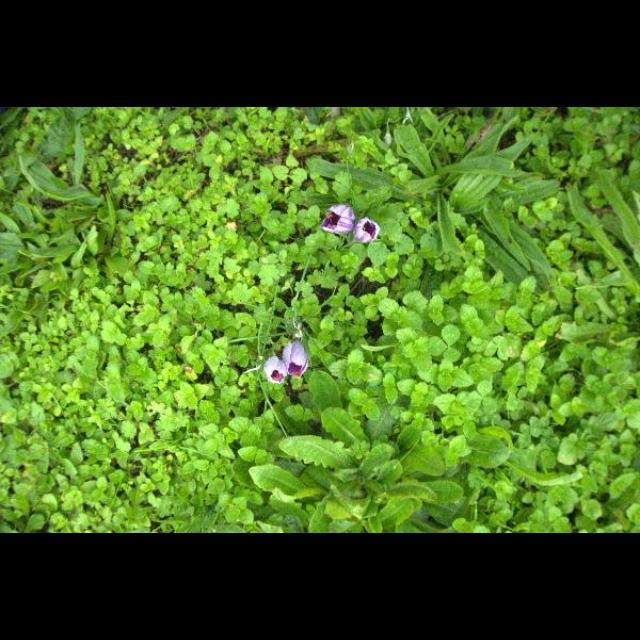flower: (321, 203, 354, 234), (281, 342, 309, 378), (354, 218, 381, 245), (264, 357, 286, 385)
